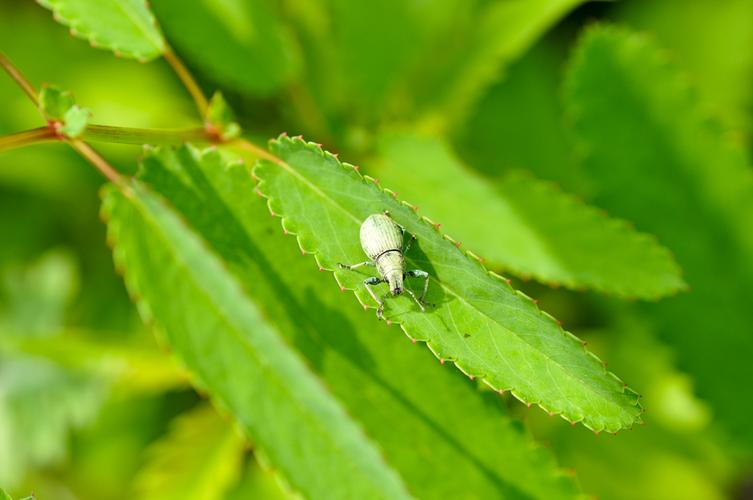Curculionidae: (337, 211, 437, 320)
